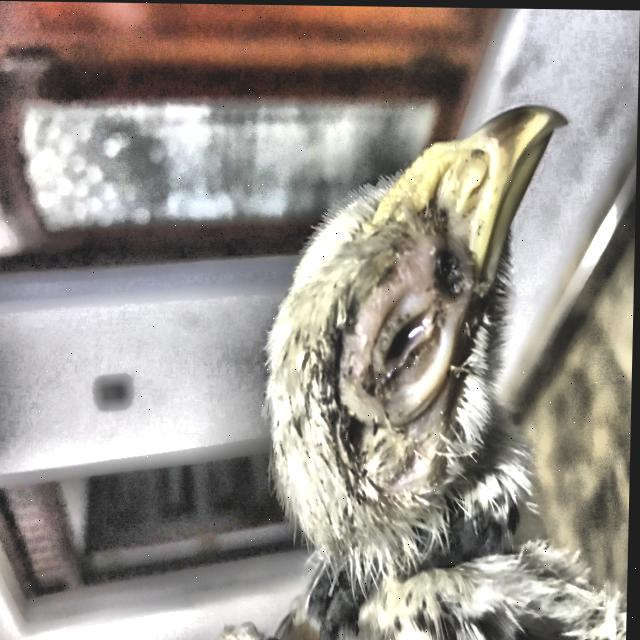Coryza: (249, 98, 577, 551)
